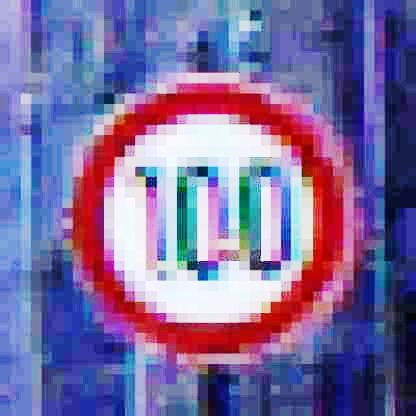Speed Limit -100-: (74, 70, 353, 358)
